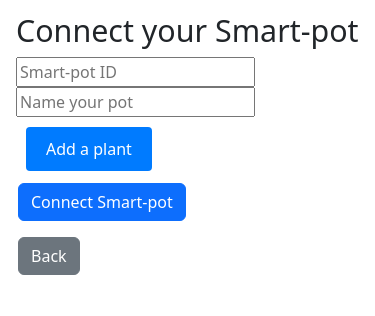
Connect a pot when there is already an existing pot
Type "123456" into the field with placeholder "Smart-pot ID" at x=136, y=72, box [16,56,255,86]
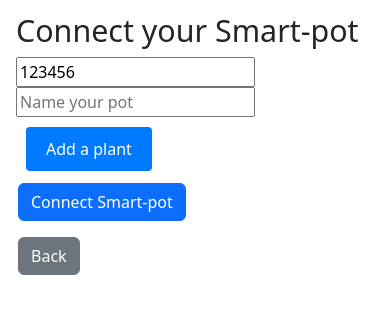
Type "My Smart Pot" into the field with placeholder "Name your pot" at x=136, y=102, box [16,86,255,116]
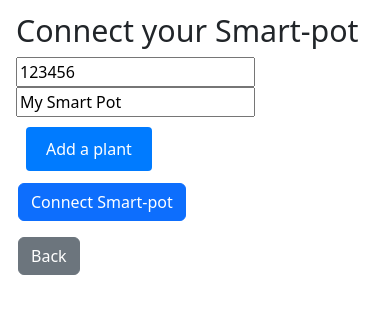
Click the button "Connect Smart-pot" at x=102, y=202, box [18,182,186,220]
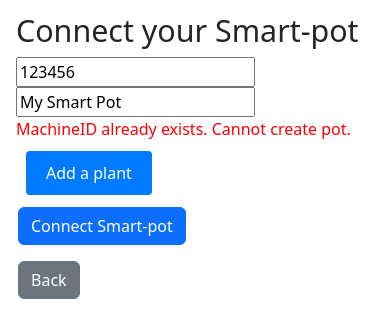
Check: the text "MachineID already exists. Cannot create pot." is shown, box [16,118,351,140]
